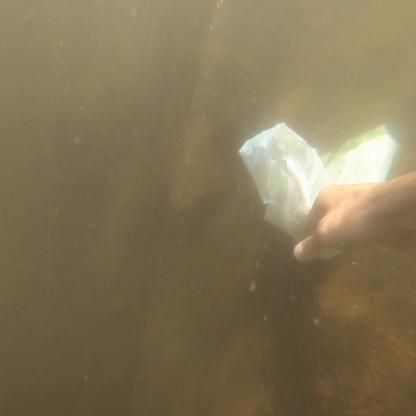Rác: (239, 116, 391, 237)
